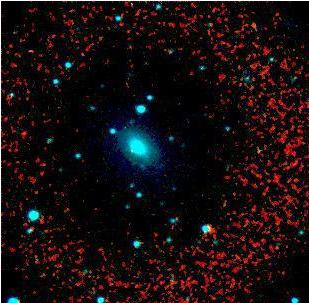star: (117, 136, 147, 166)
